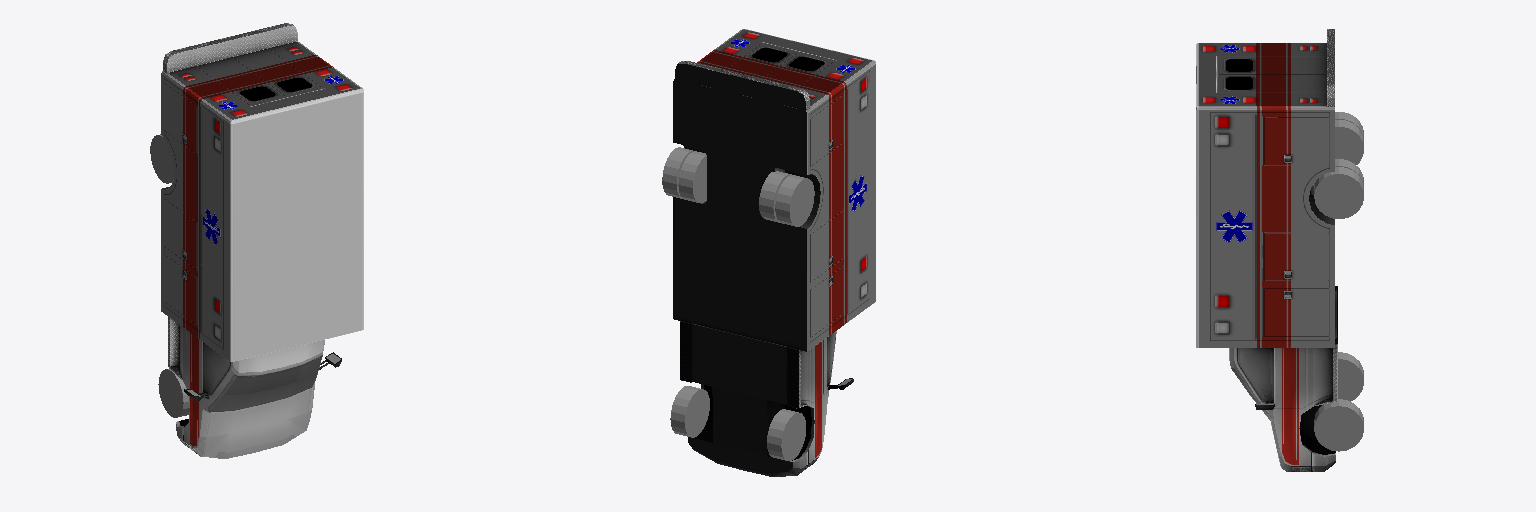
3 views of the same model, side by side, from view 1: azimuth 30°, elevation 25°; view 2: azimuth 150°, elevation 25°; view 3: azimuth 270°, elevation 25° (orthographic).
Parts seen in each view (by area): view 1: Ambulance, Wheel_Front_Right, Wheels_Rear; view 2: Ambulance, Wheels_Rear, Wheel_Front_Left, Wheel_Front_Right; view 3: Ambulance, Wheels_Rear, Wheel_Front_Left, Wheel_Front_Right.
Boxes of the visible parts, <box> form: Ambulance: <box>161,23,363,458</box>; Wheel_Front_Right: <box>158,368,189,417</box>; Wheels_Rear: <box>150,134,174,183</box>; Ambulance: <box>673,29,875,476</box>; Wheels_Rear: <box>662,147,814,226</box>; Wheel_Front_Left: <box>670,386,709,437</box>; Wheel_Front_Right: <box>767,409,805,460</box>; Ambulance: <box>1196,29,1337,471</box>; Wheels_Rear: <box>1314,112,1363,218</box>; Wheel_Front_Left: <box>1314,399,1363,451</box>; Wheel_Front_Right: <box>1338,352,1363,401</box>.
Size of the model in its own units: 117 by 297 by 114.
Materials: 2 (1 with a texture image).